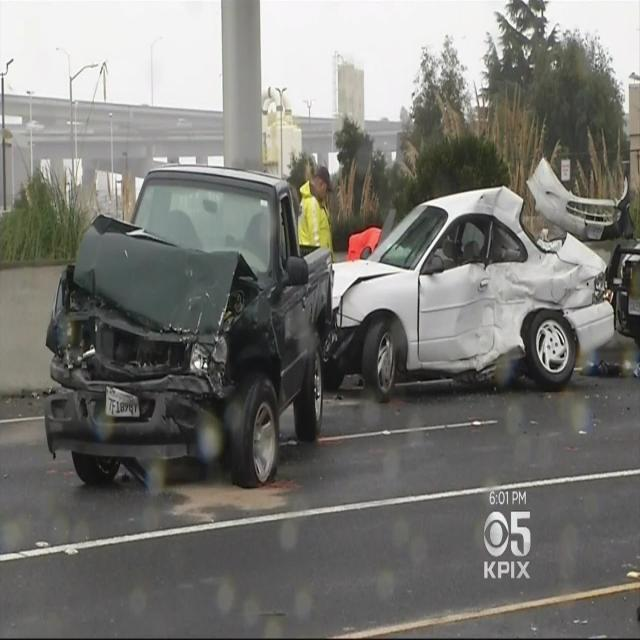Accident: (41, 142, 636, 489)
